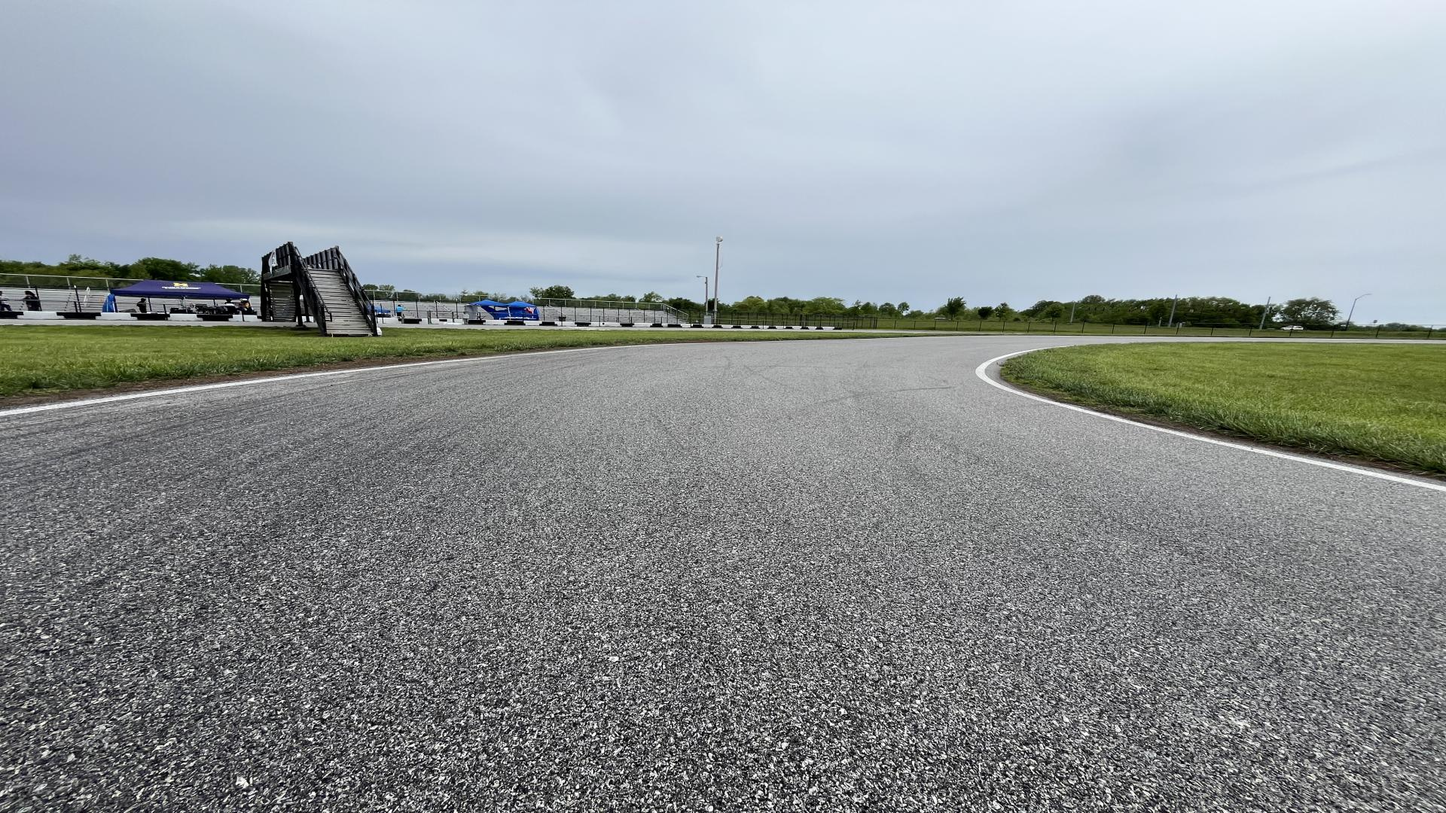white-line: (975, 346, 1445, 492), (0, 340, 813, 416)
